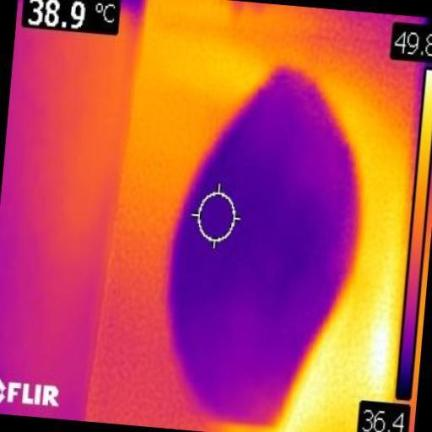mango: (168, 68, 355, 425)
